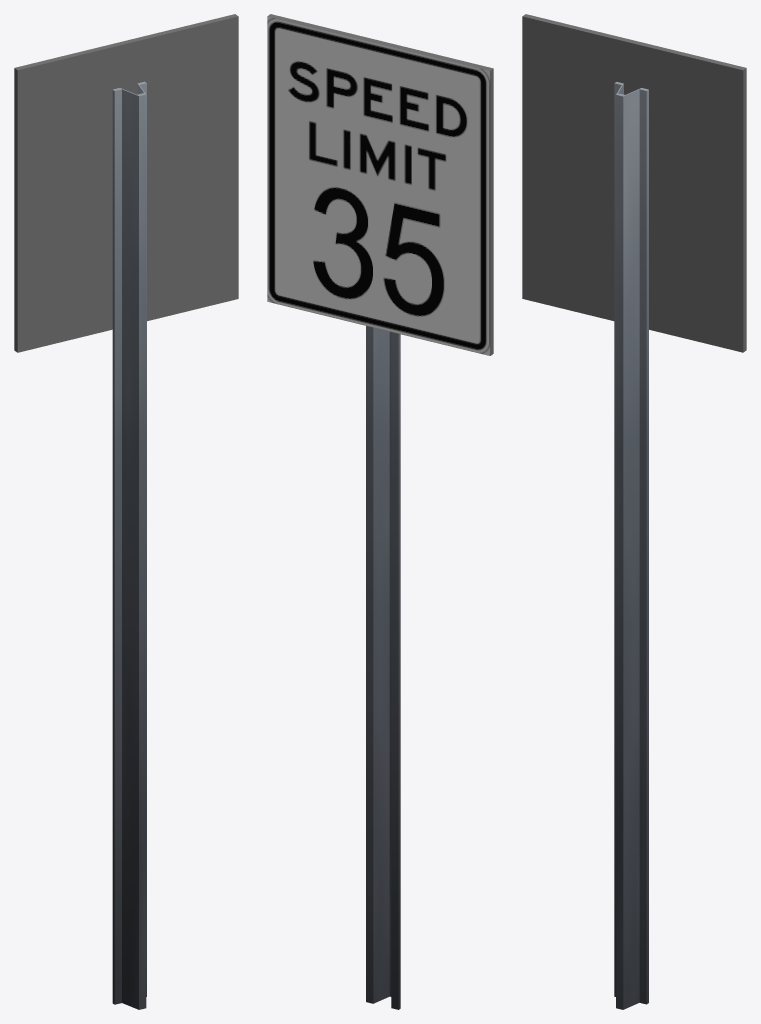
Rendered from warning_speed_avg.obj.
The picture shows the model from 3 angles, left to right: view 1: azimuth 30°, elevation 25°; view 2: azimuth 150°, elevation 25°; view 3: azimuth 330°, elevation 25°; orthographic projection.
Parts seen in each view (by area): view 1: Mesh; view 2: Mesh; view 3: Mesh.
Part boxes in pixels (<box>): Mesh: <box>14,14,238,1009</box>; Mesh: <box>267,14,493,1009</box>; Mesh: <box>522,14,746,1009</box>.
Bounding box in the file's own units: 0.1244 × 0.5142 × 0.0168.
